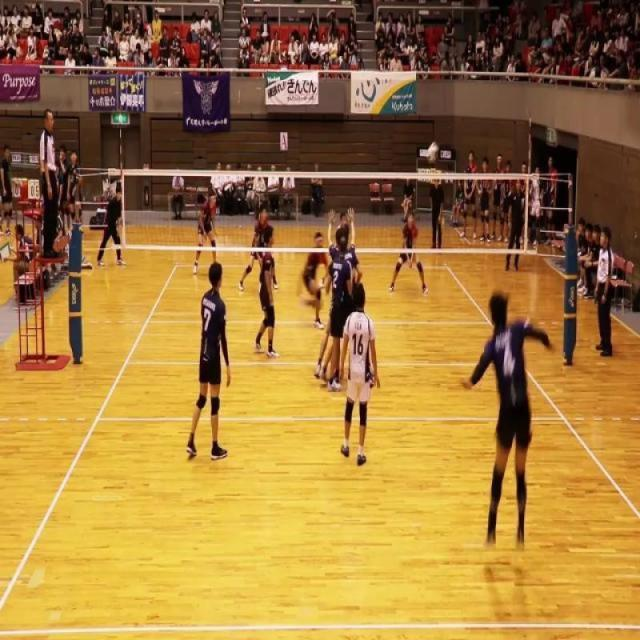volleyball: (427, 140, 440, 168)
